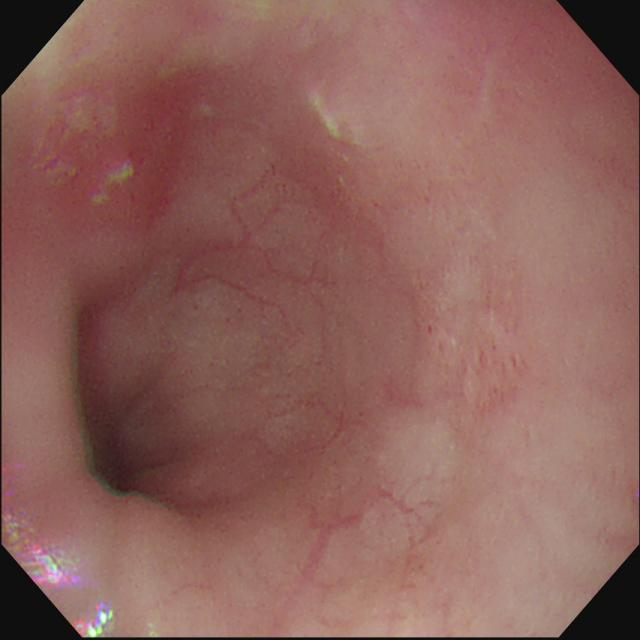A: (139, 73, 222, 219), (478, 342, 521, 403), (426, 324, 437, 338)
J: (28, 89, 121, 186), (313, 96, 367, 148), (90, 162, 136, 206)
U: (2, 516, 79, 588), (73, 603, 118, 640)
